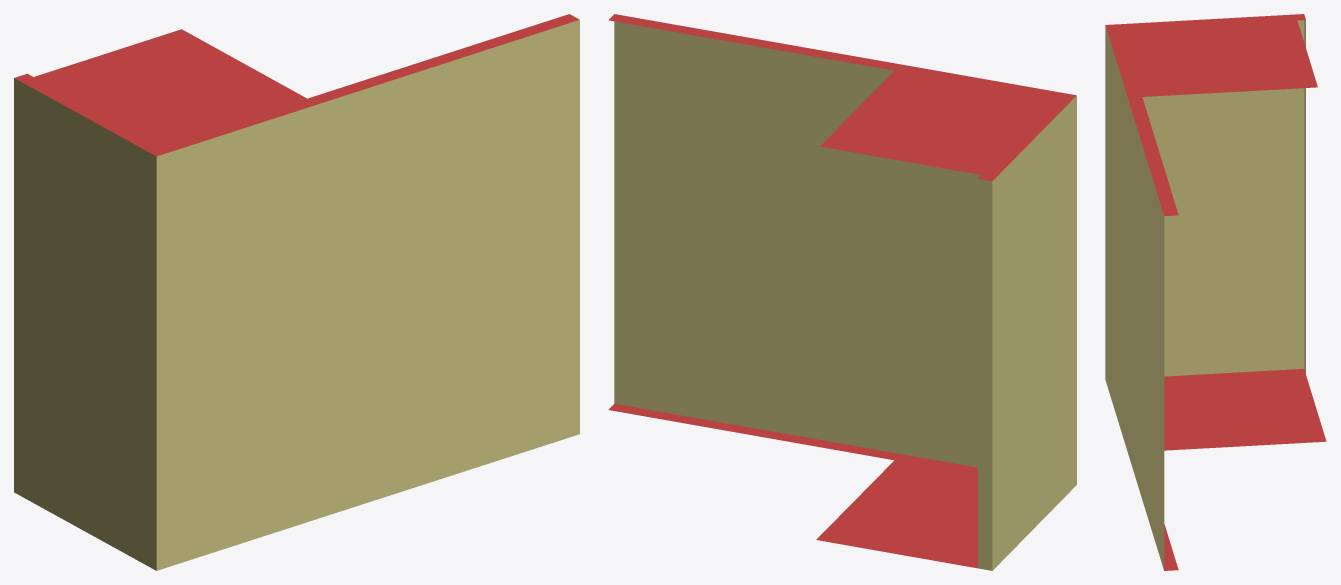
3 views of the same model, side by side, from view 1: azimuth 30°, elevation 25°; view 2: azimuth 150°, elevation 25°; view 3: azimuth 270°, elevation 25° (orthographic). The views are drawn at different scales.
Bounding box in the file's own units: 8.14 × 3.76 × 6.66.
